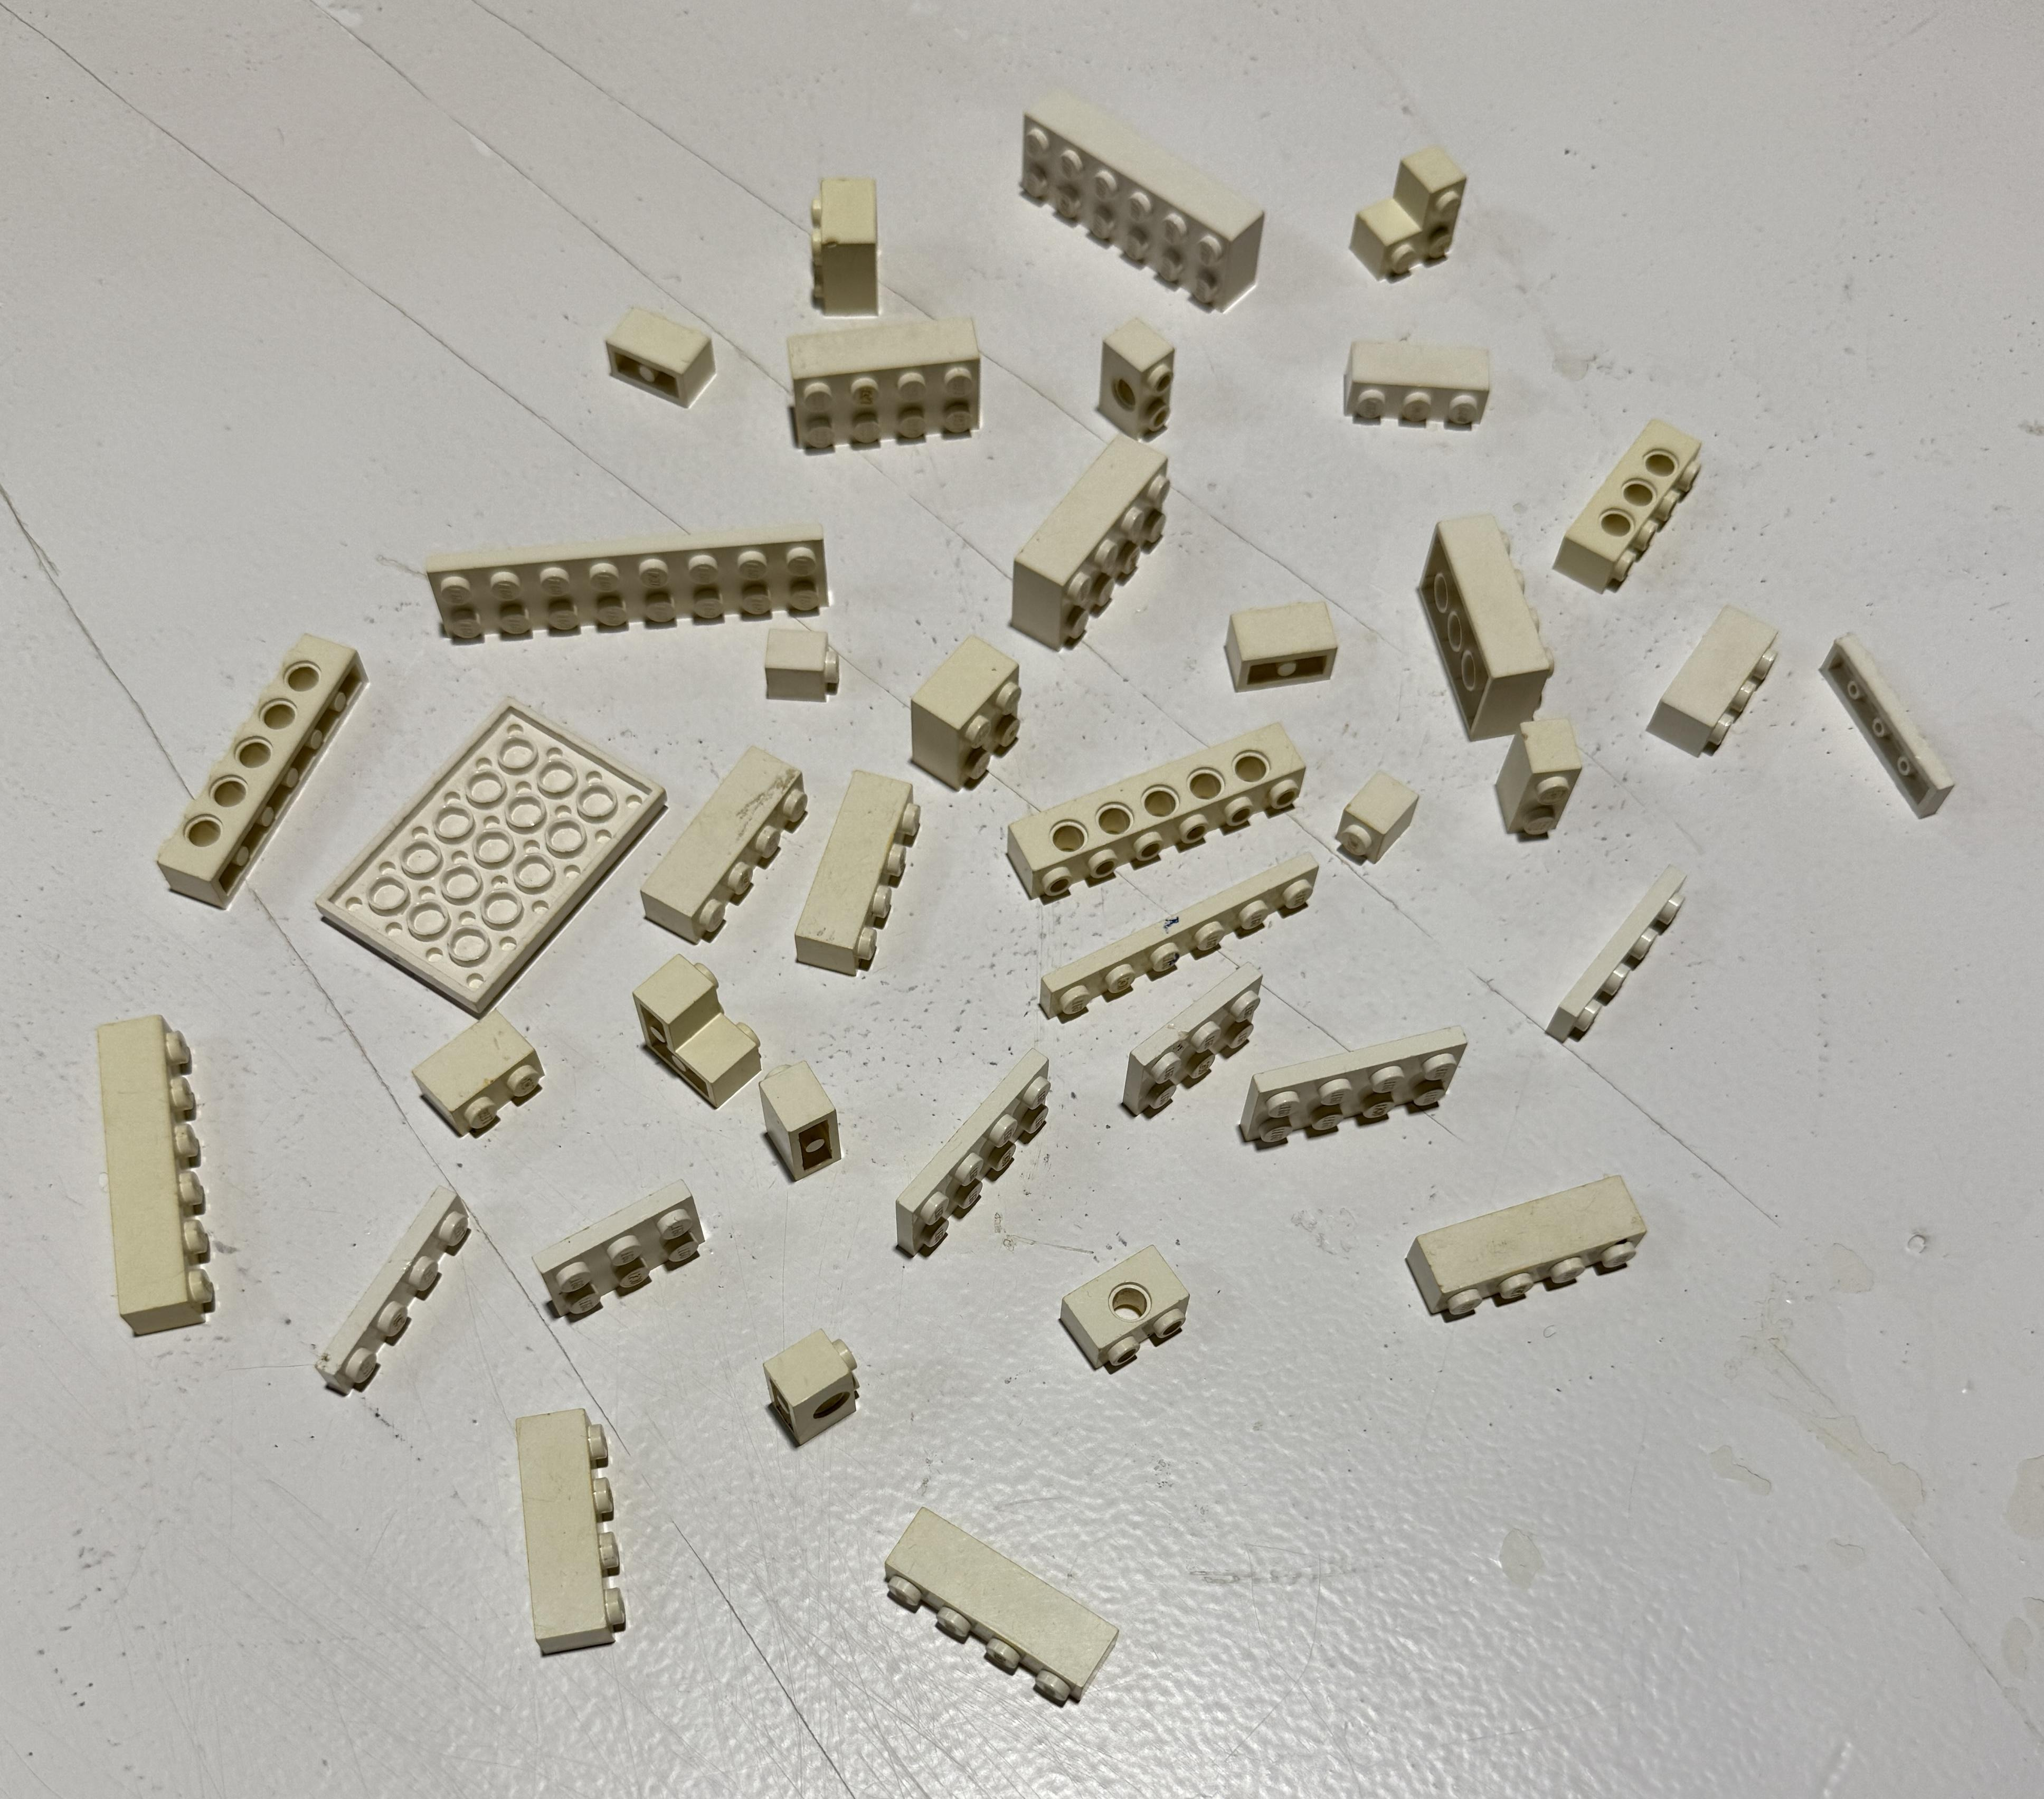brick_1x1: (1319, 747, 1430, 881), (744, 603, 862, 716)
brick_1x2: (393, 987, 568, 1163), (1048, 1229, 1210, 1387), (1483, 687, 1599, 876), (1201, 579, 1354, 709), (735, 1318, 876, 1458), (1078, 302, 1192, 459), (594, 294, 742, 412), (744, 1052, 855, 1206)
brick_1x3: (1646, 586, 1801, 796), (1298, 313, 1531, 452)
brick_1x4: (864, 1490, 1135, 1728), (464, 1384, 667, 1683), (1390, 1158, 1669, 1338), (626, 730, 831, 958), (789, 751, 932, 1006)
brick_2x2: (892, 619, 1043, 813), (779, 144, 902, 334)
brick_2x4: (992, 422, 1180, 659), (763, 309, 1010, 483)
